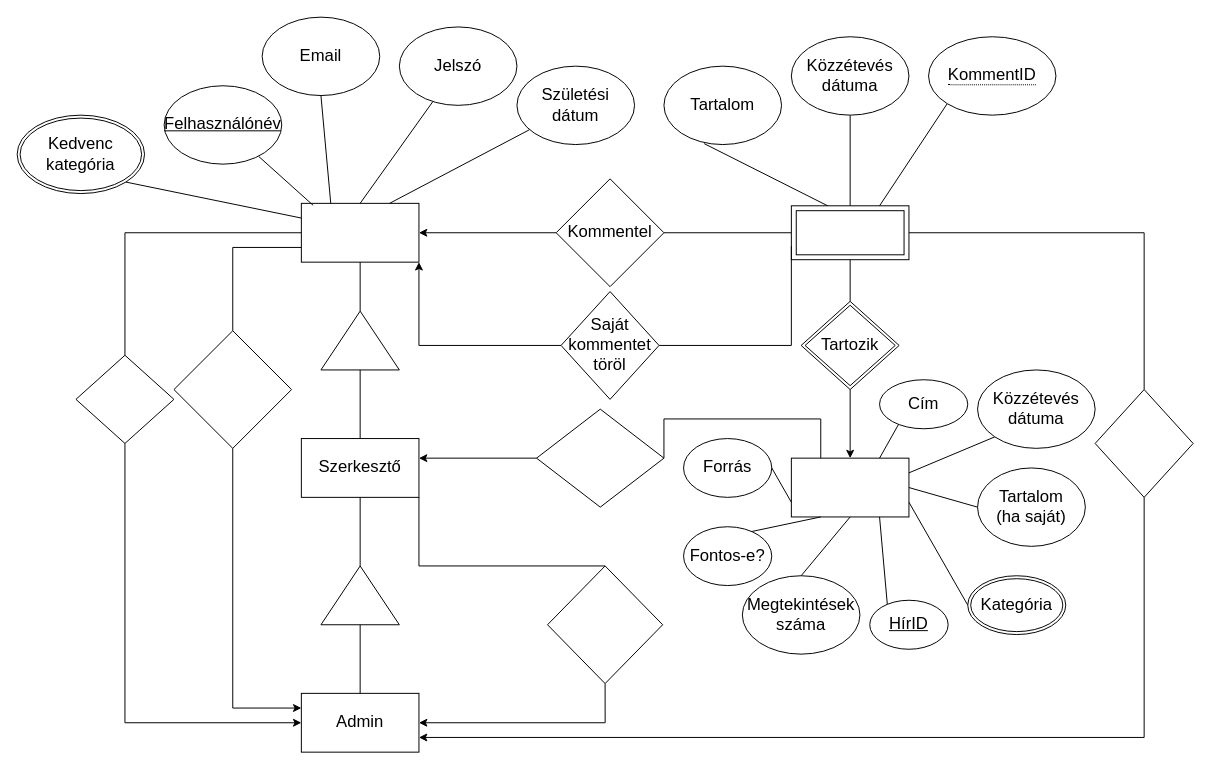
The diagram is 1210 pixels wide and 769 high, and some of its shapes have lost their labels. The centre of each missing label's shape, as x and y in pixels:
Előléptet: (x=124, y=398)
Felhasználó: (x=359, y=232)
Hír: (x=849, y=487)
Jogot visszavon: (x=605, y=624)
Komment: (x=849, y=232)
Közzétesz / módosít: (x=600, y=457)
Letilt/Tiltást visszavon: (x=232, y=389)
Más kommentjét töröl: (x=1143, y=443)
